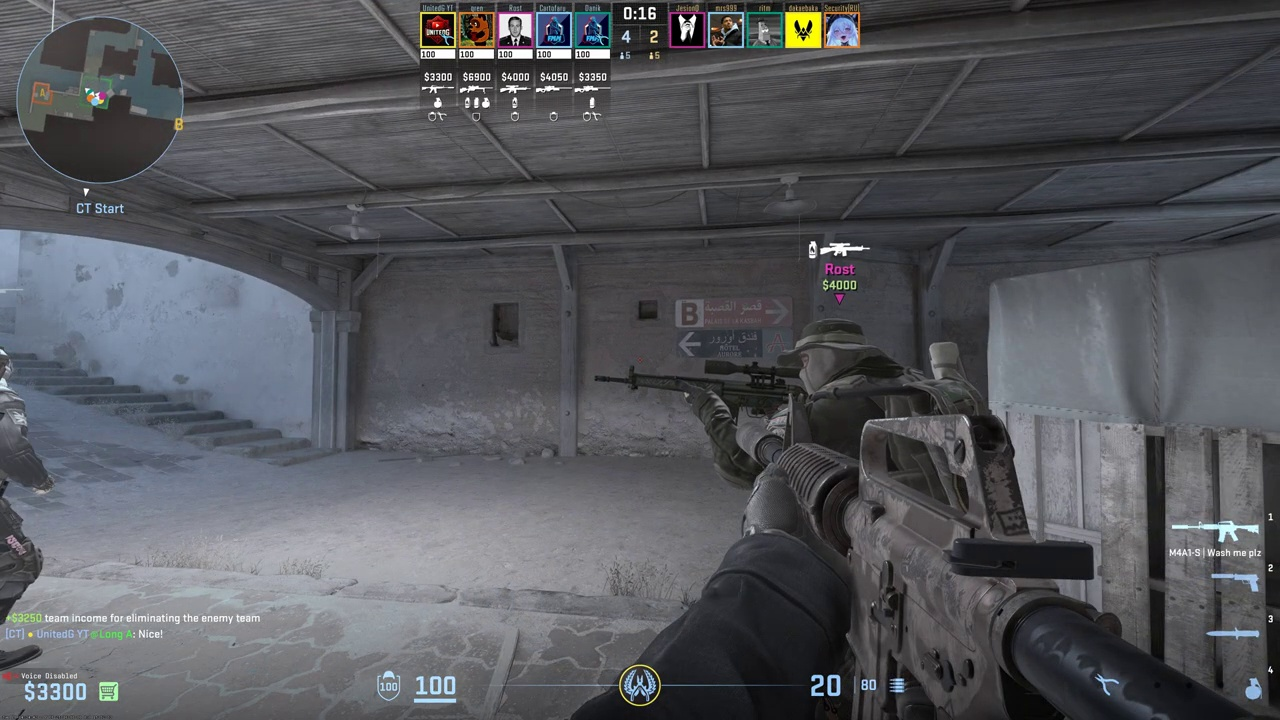CT: (747, 321, 978, 481), (0, 347, 42, 665)
